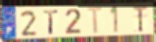1: (110, 5, 120, 35)
2: (19, 10, 39, 38), (64, 8, 83, 36)
T: (86, 6, 106, 35), (132, 5, 149, 34), (42, 9, 59, 35)
